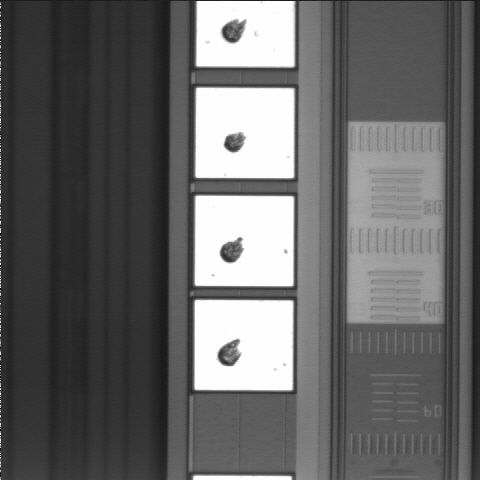pad: (195, 88, 294, 178), (195, 196, 294, 286), (195, 300, 293, 390)
